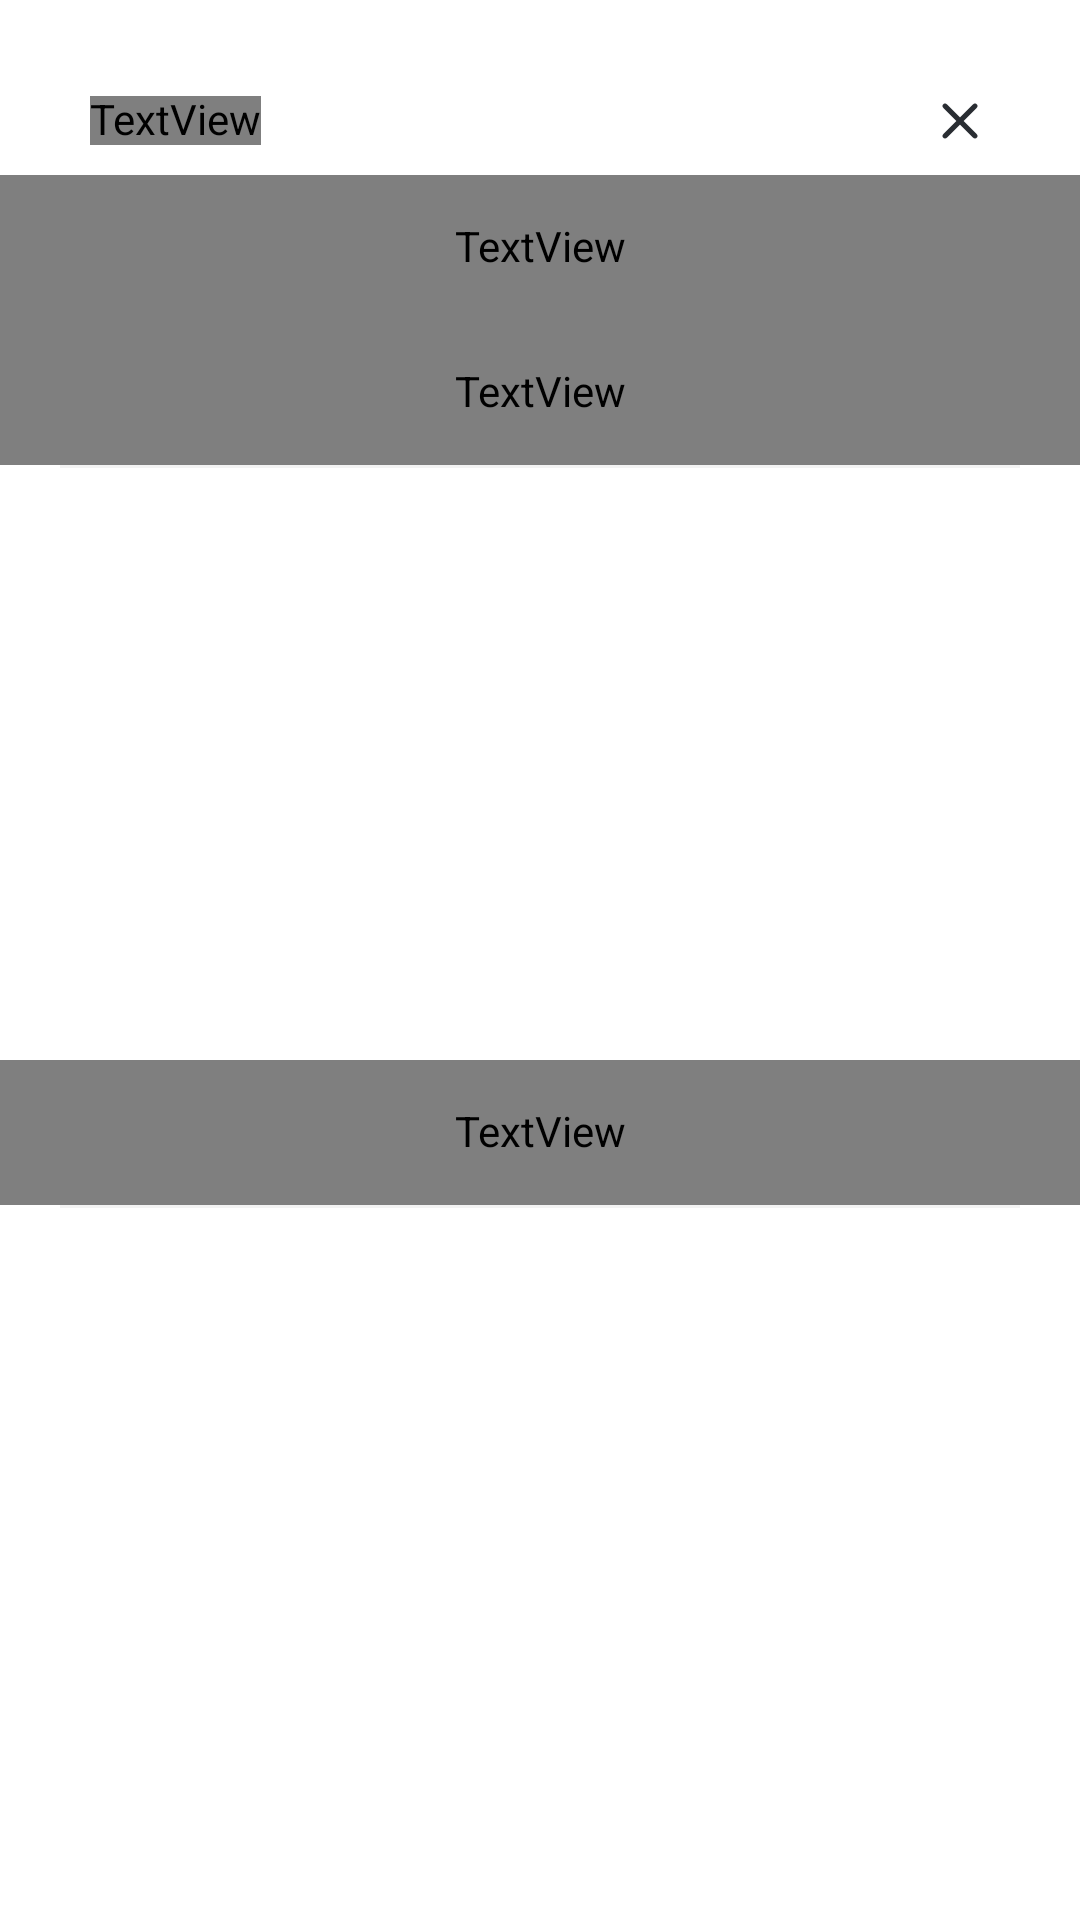

Icon bounding boxes for this 1080px x 1920px phone screenshot, format [x1, y1, x2, y2]:
close: [942, 103, 978, 139]
